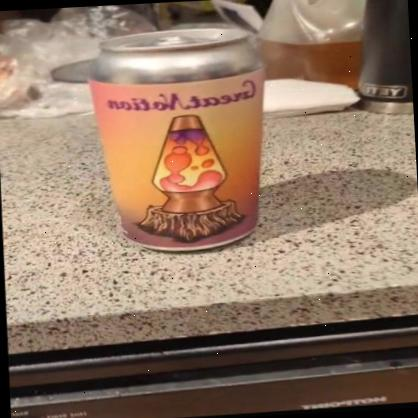can: (85, 22, 270, 261)
